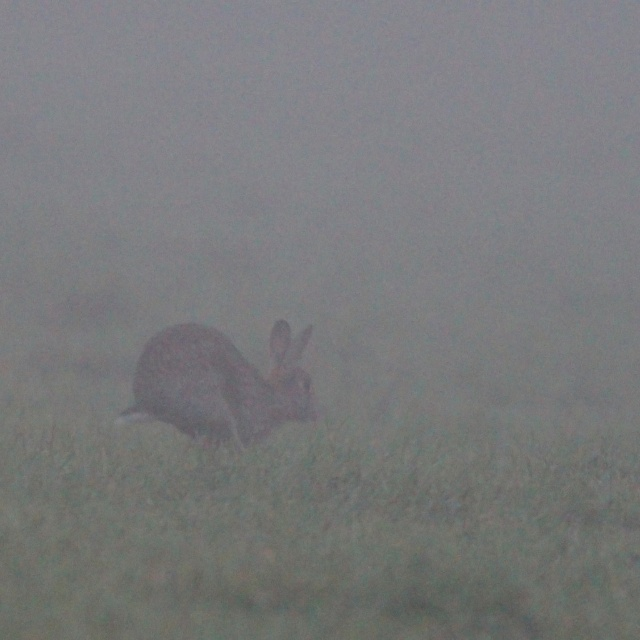Rabbit: (116, 319, 325, 447)
